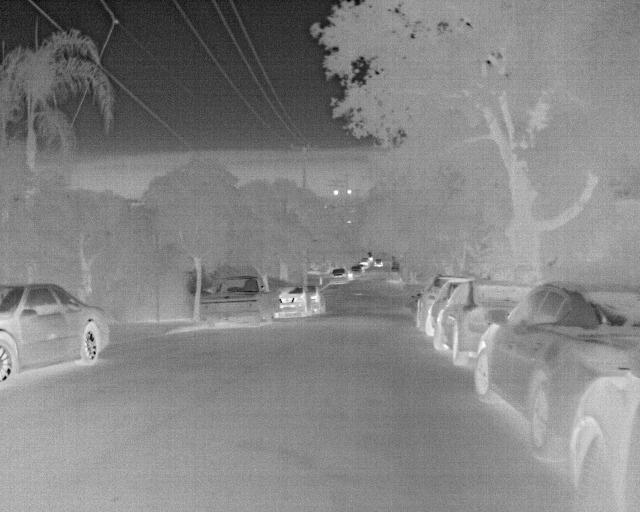car: (469, 280, 639, 462), (0, 282, 115, 386), (568, 370, 639, 511), (430, 282, 532, 369), (200, 272, 275, 327), (415, 272, 473, 330), (424, 280, 471, 338), (274, 281, 321, 321), (326, 267, 352, 286), (371, 257, 386, 269)
